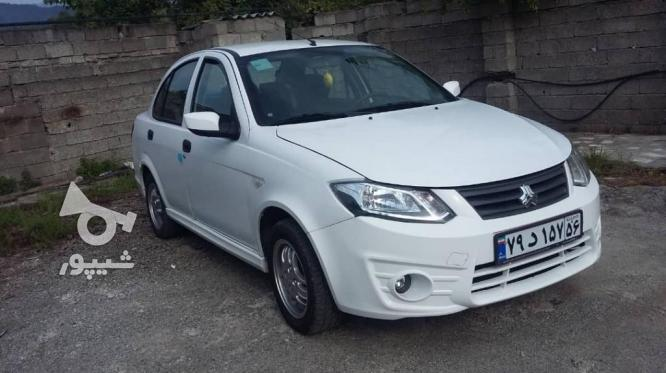car: (492, 207, 586, 262)
